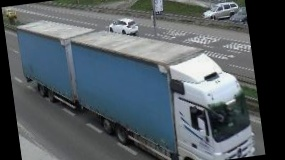truck: (16, 0, 256, 160)
